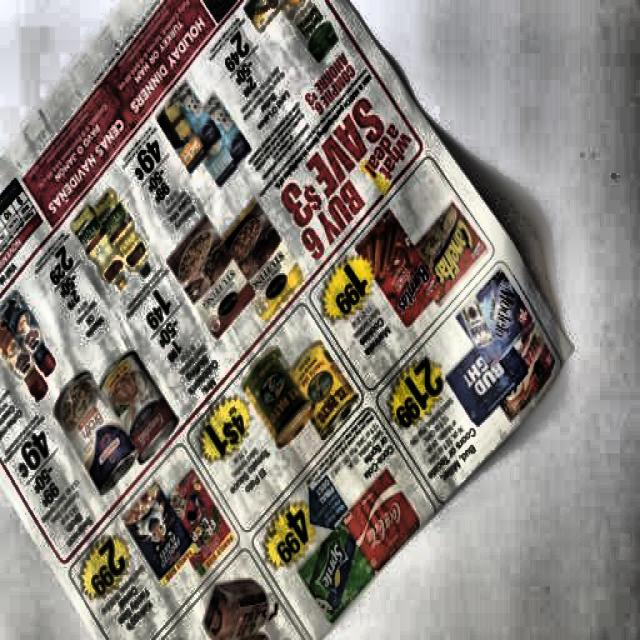paper: (0, 0, 572, 633)
